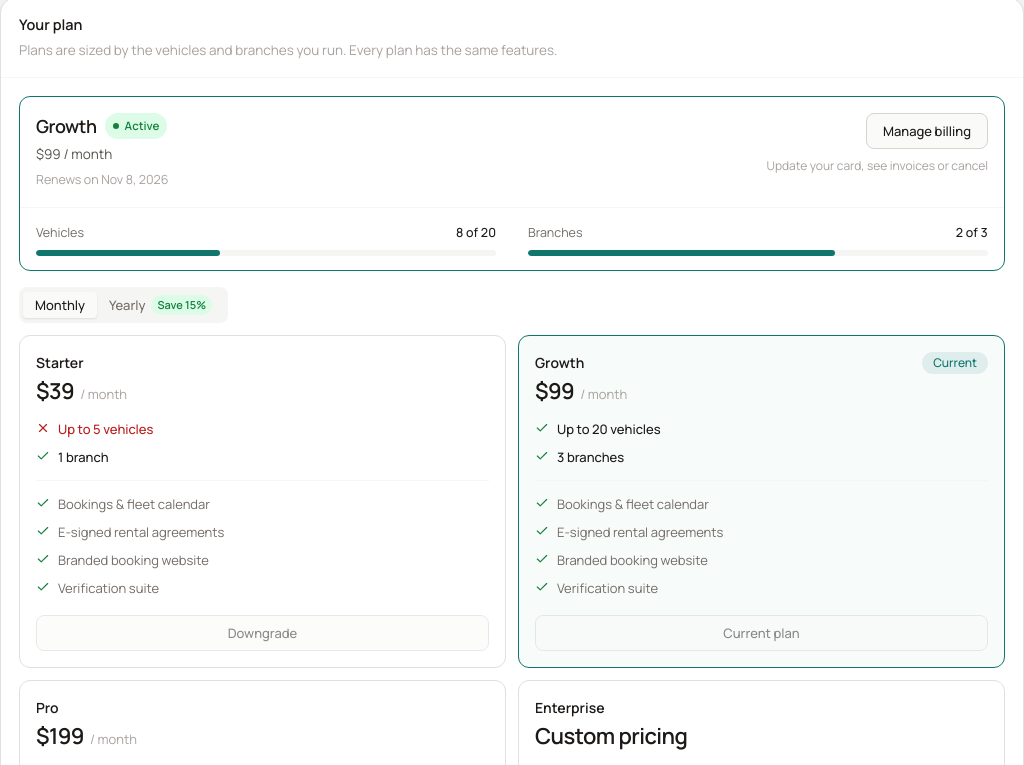
BillingSettings › offers the current plan on the other billing period as a switch
Click the tab "Yearly Save 15%". click: x=161, y=305
box: [97, 291, 224, 319]
(page scrolled)
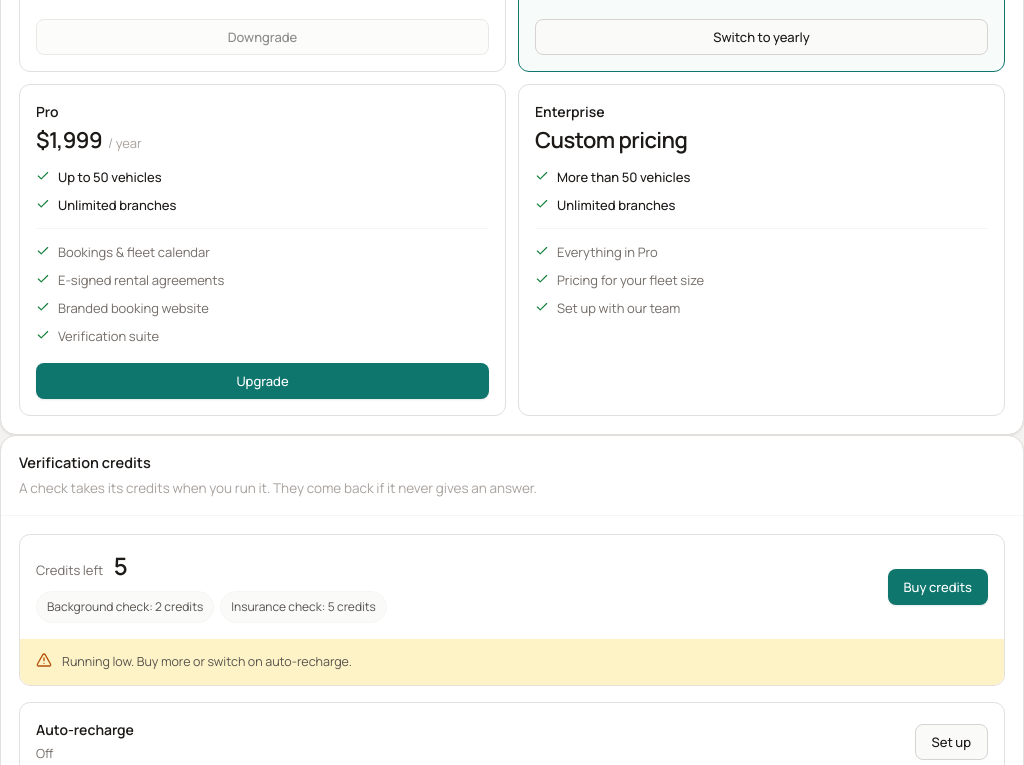
Expected: the button "Upgrade" is enabled, [36, 363, 489, 399]
Result: the button "Switch to yearly" is enabled at [535, 18, 988, 54]
